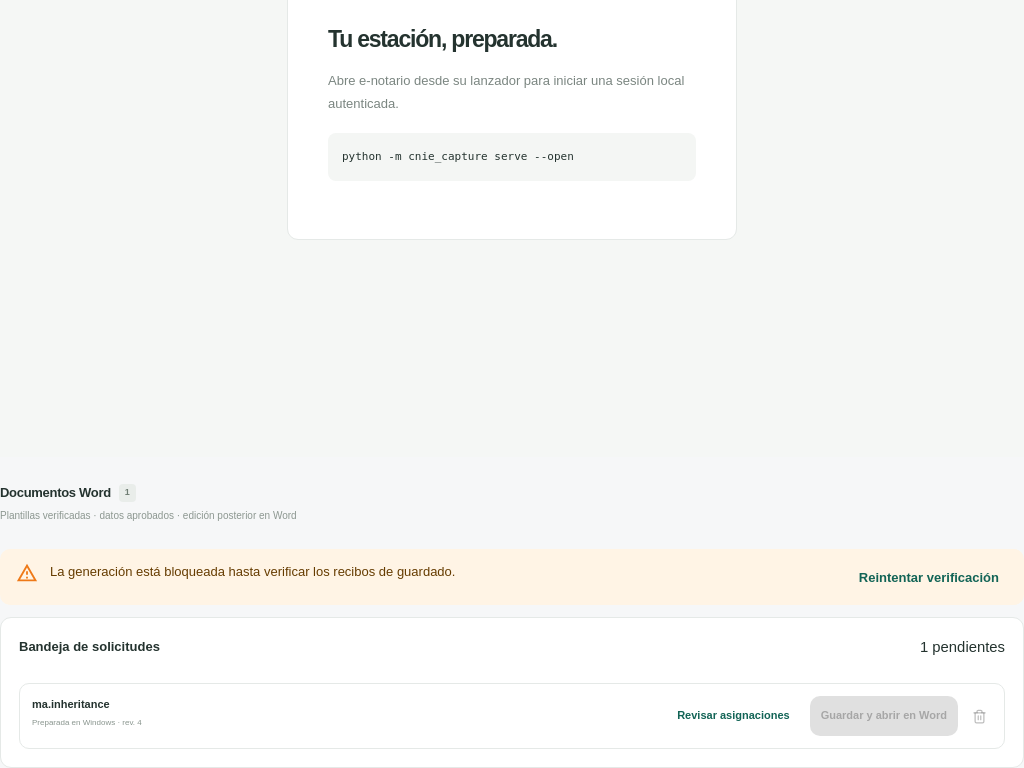
Scenario: partial Word protected saving › requires successful protected-catalog verification before enabling generation
(page scrolled)
Expected: the text "La generación está bloqueada hasta verificar los recibos de guardado." is shown, [50, 564, 455, 579]
Expected: the button "Guardar y abrir en Word" is disabled, [810, 696, 958, 736]
Click the button "Reintentar verificación".
click(929, 579)  # box [842, 559, 1016, 599]
(page scrolled)
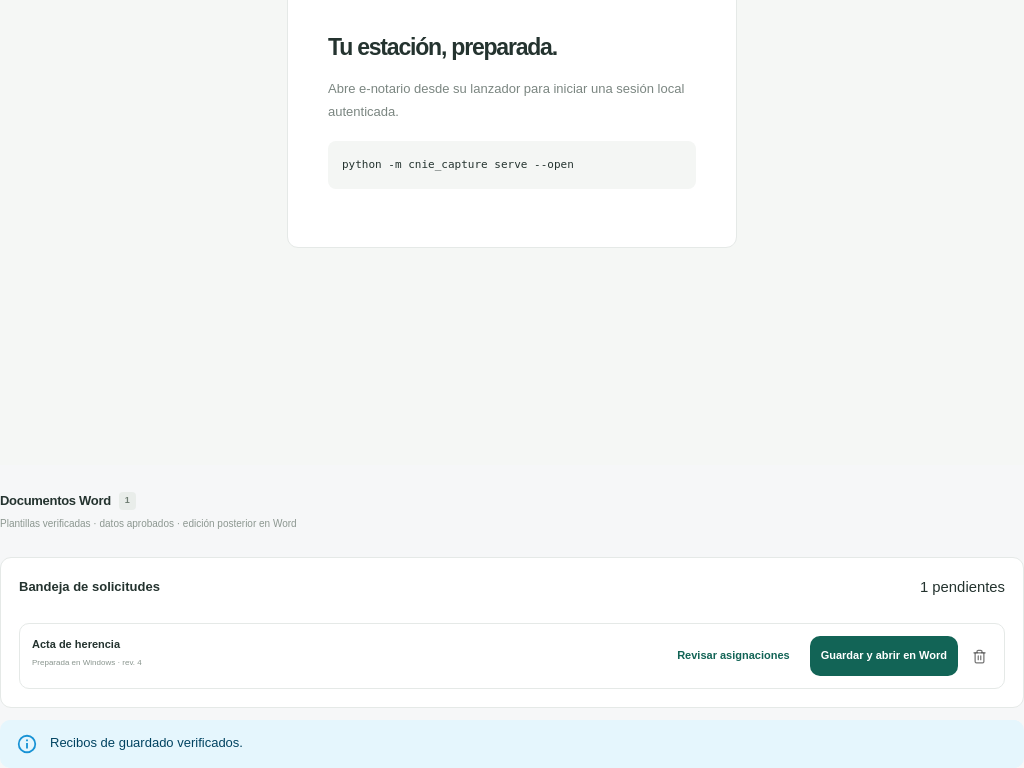
Now the button "Guardar y abrir en Word" is enabled, box [810, 636, 958, 676]
